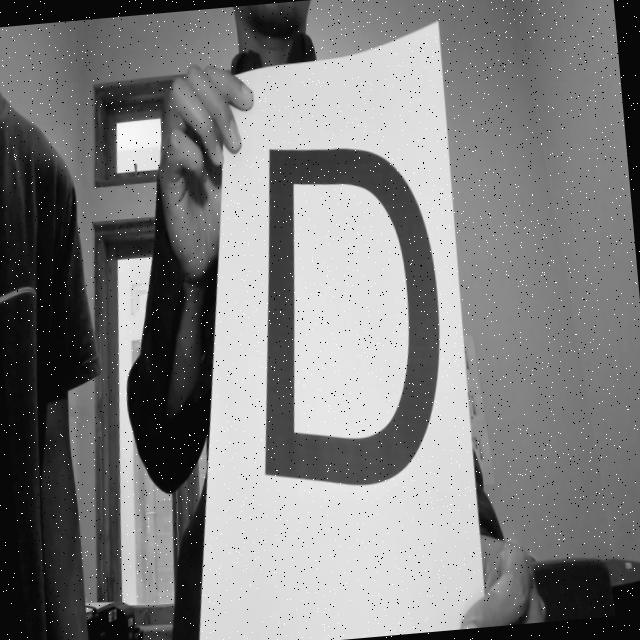d: (230, 108, 463, 536)
